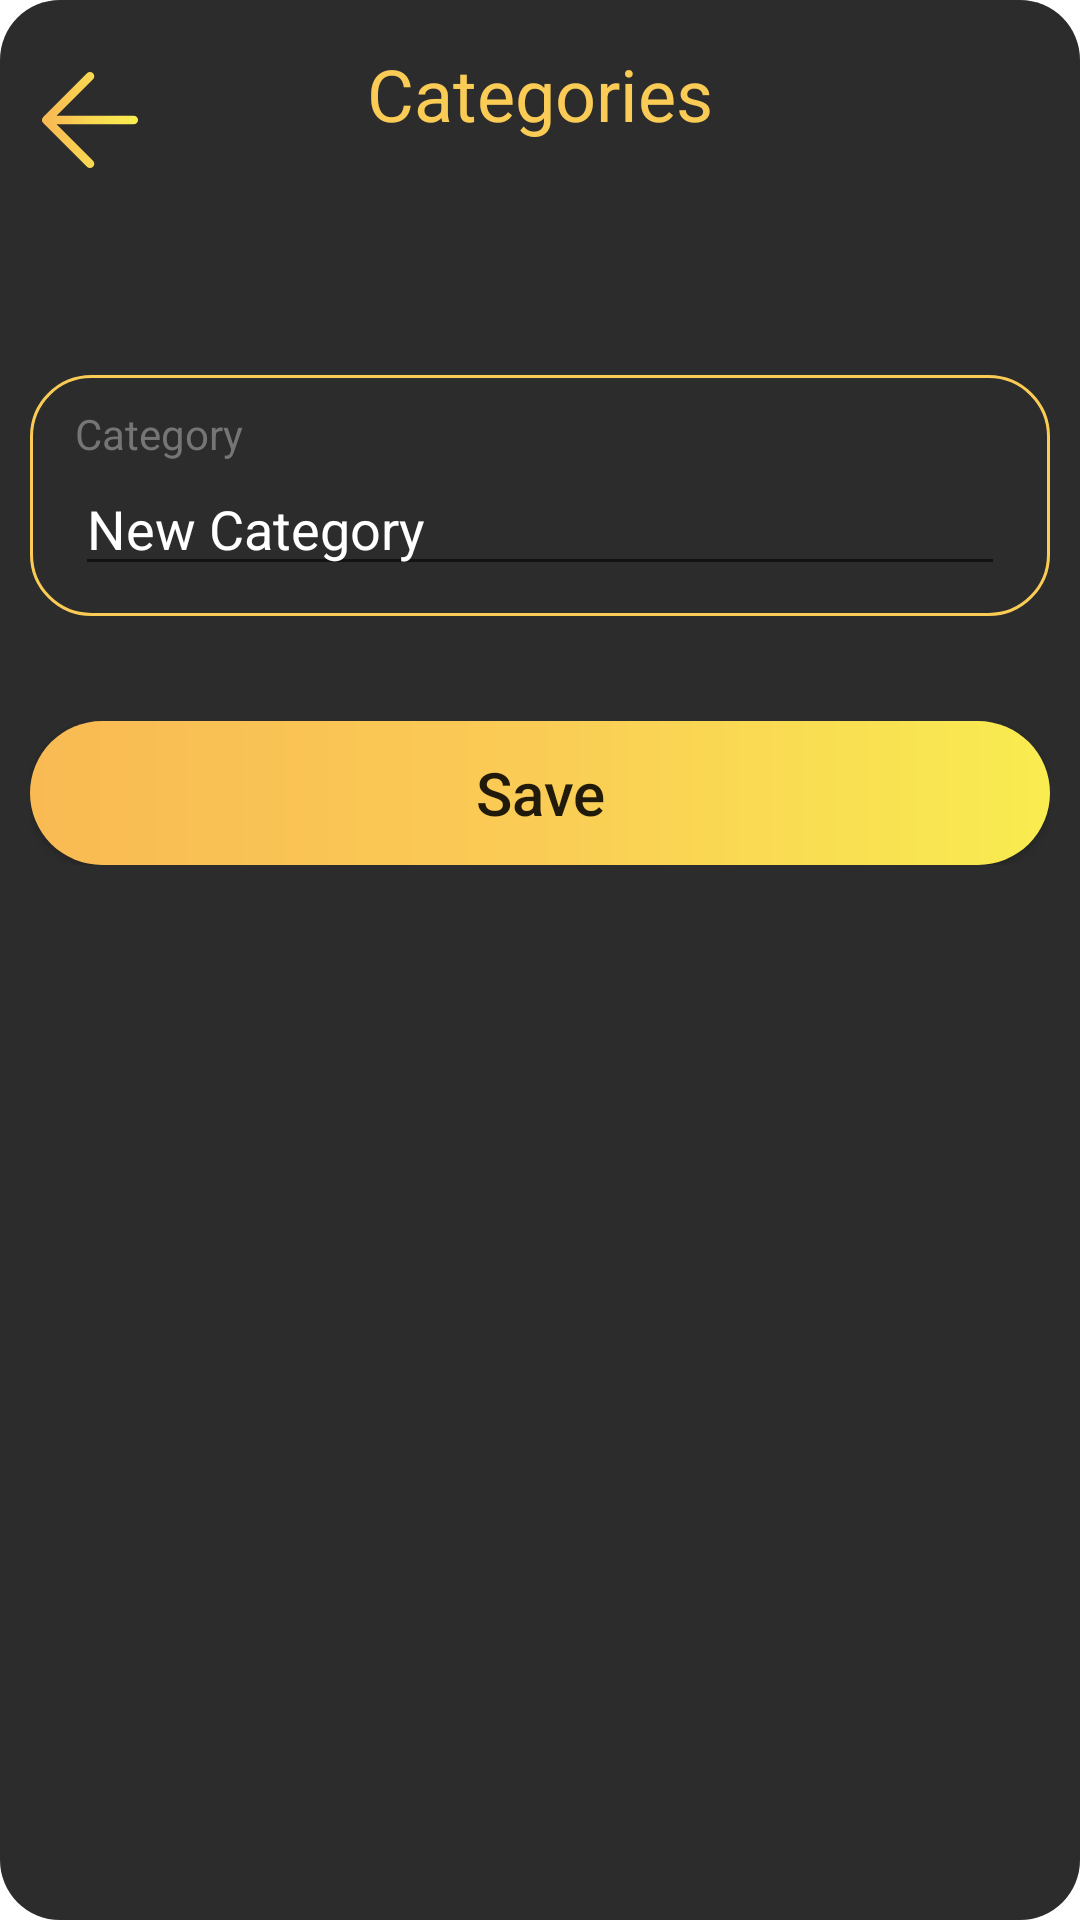

Where to tap for icons on this 1080 x 1920 app screen, as (x=x, y=y):
arrow left: (x=90, y=120)
